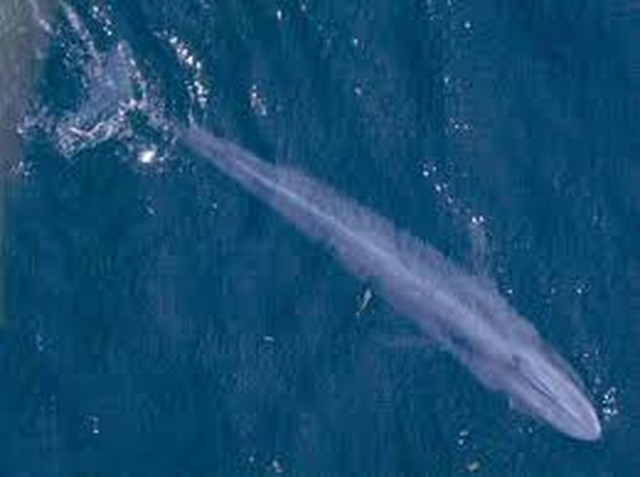whale: (61, 40, 607, 451)
